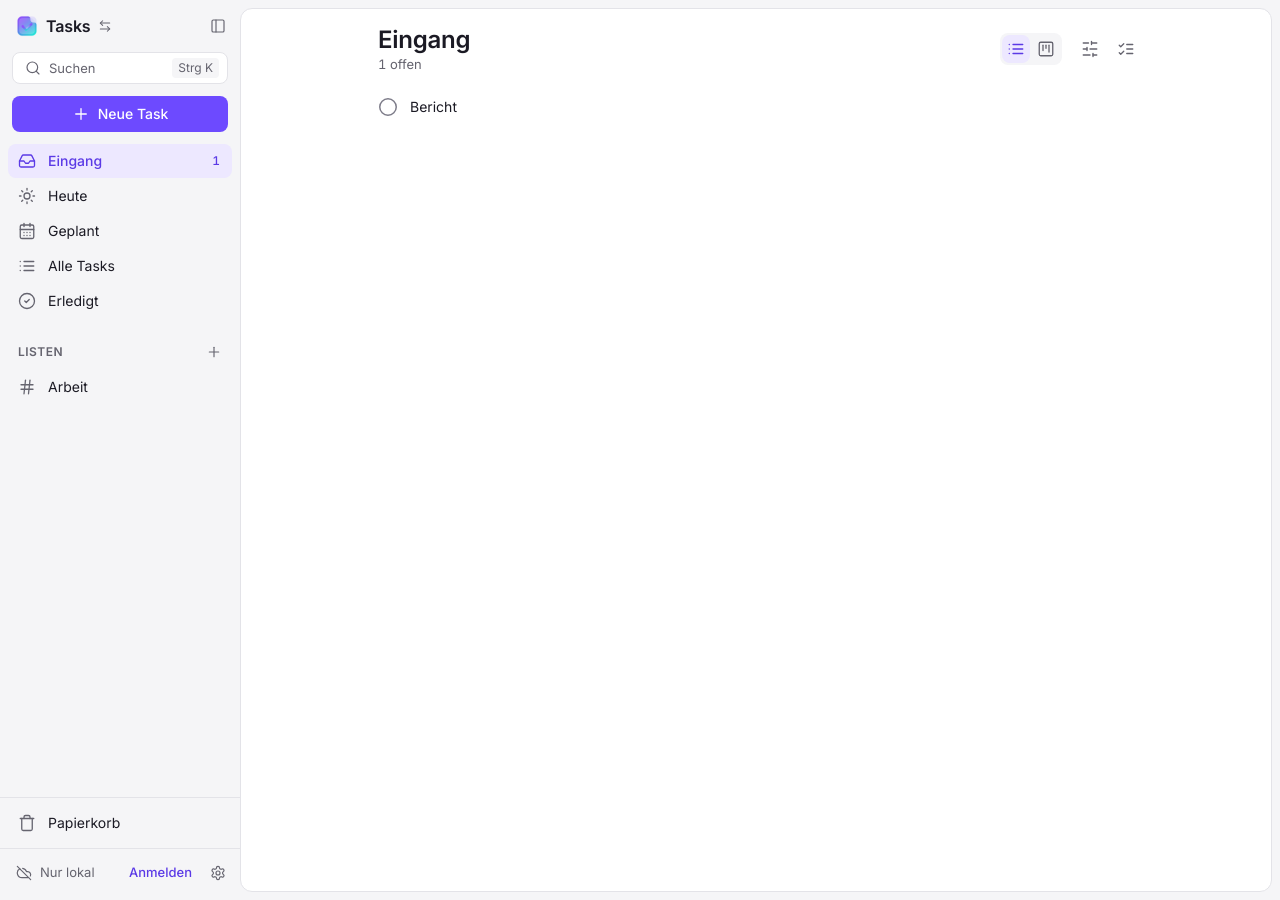
Test: TaskDetail › closes with the close button
This screenshot has width=1280, height=900.
What coordinates should you click on to do the following:
click the option "Bericht"
I would click on:
 (416, 107)
Its box is [374,93,457,121].
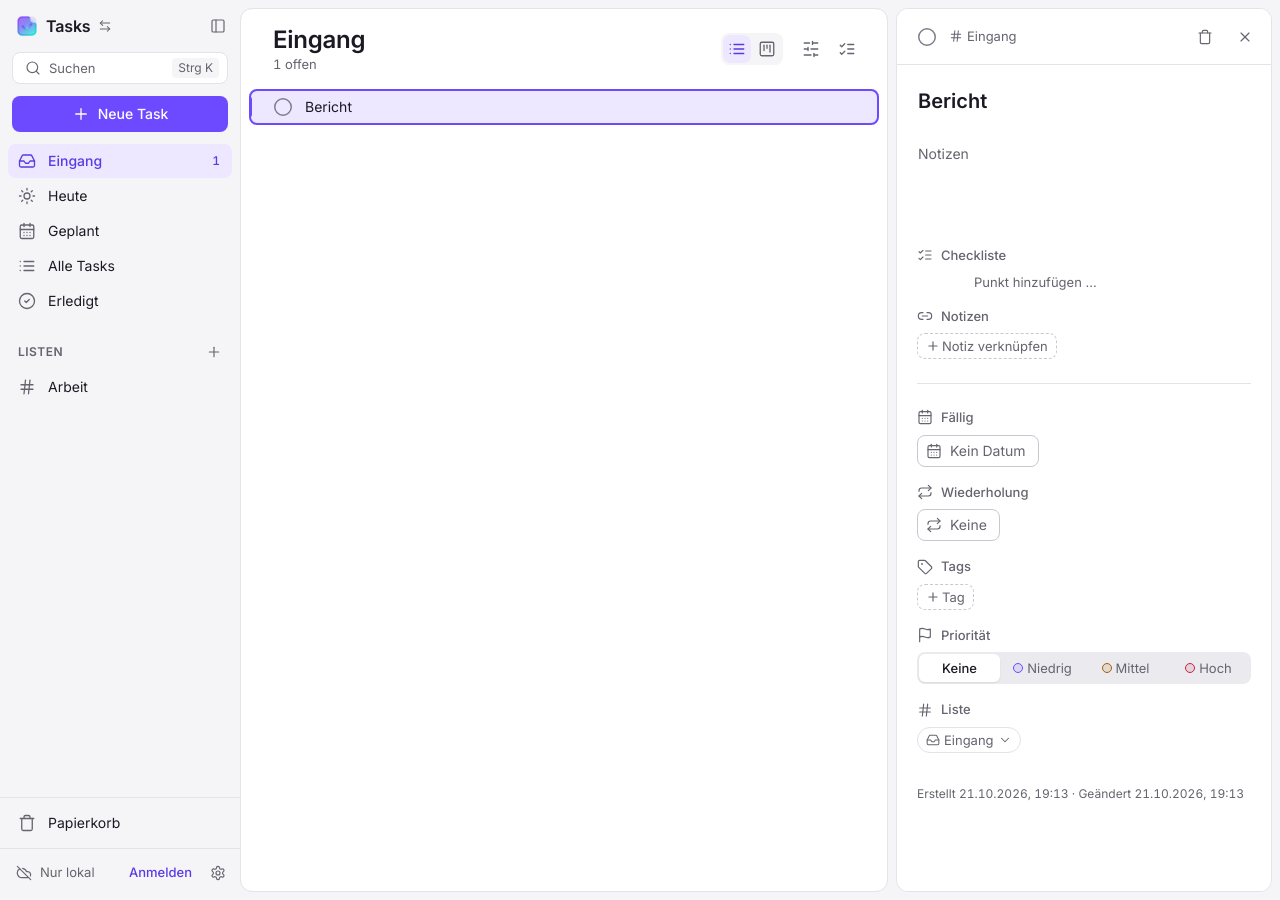
What coordinates should you click on to do the following:
click the button named "Schließen"
I would click on:
 (1245, 36)
Its box is [1231,22,1259,50].
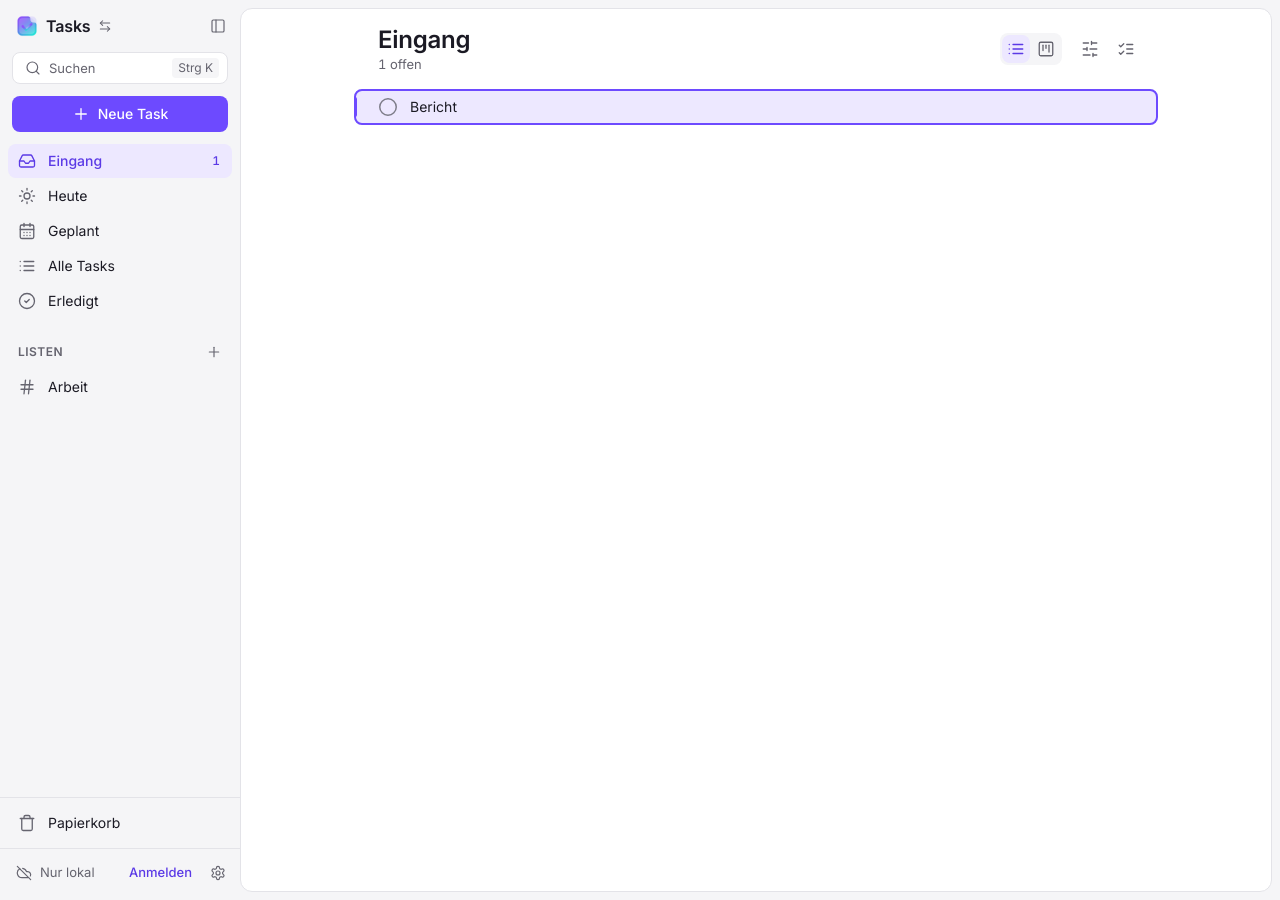
Expected: the element "Task-Details" is gone
